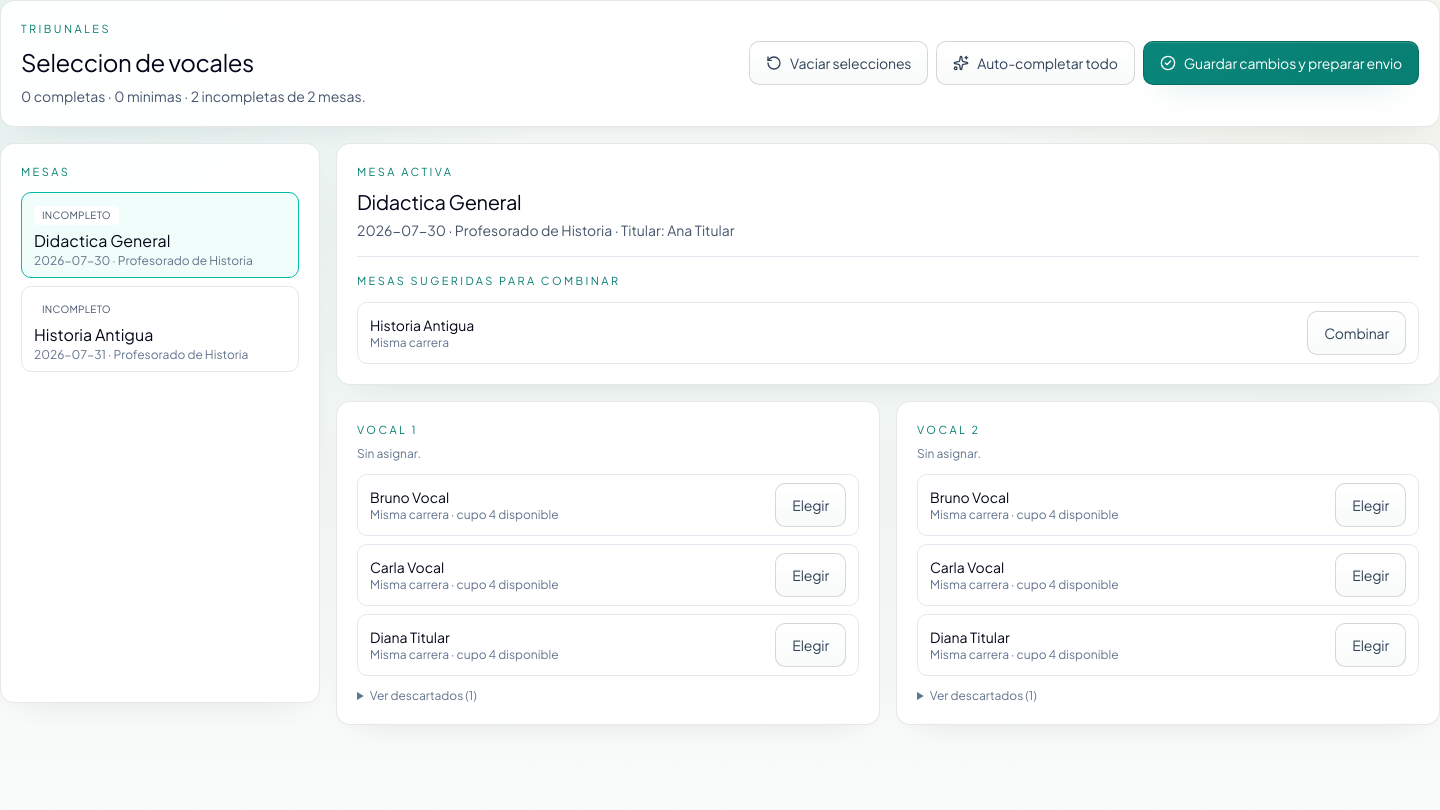
Test: InteractiveVocalSelectionPanel (UI real montada con el hook) › combinar mesas › combina la mesa activa con una mesa sugerida de la lista de sugerencias
Expected: the text "Mesas sugeridas para combinar" is shown, [357,274,620,287]
Expected: the text "Misma carrera" is shown, [370,334,449,350]
Click the button "Combinar": (1357, 332) [1307,310,1406,354]
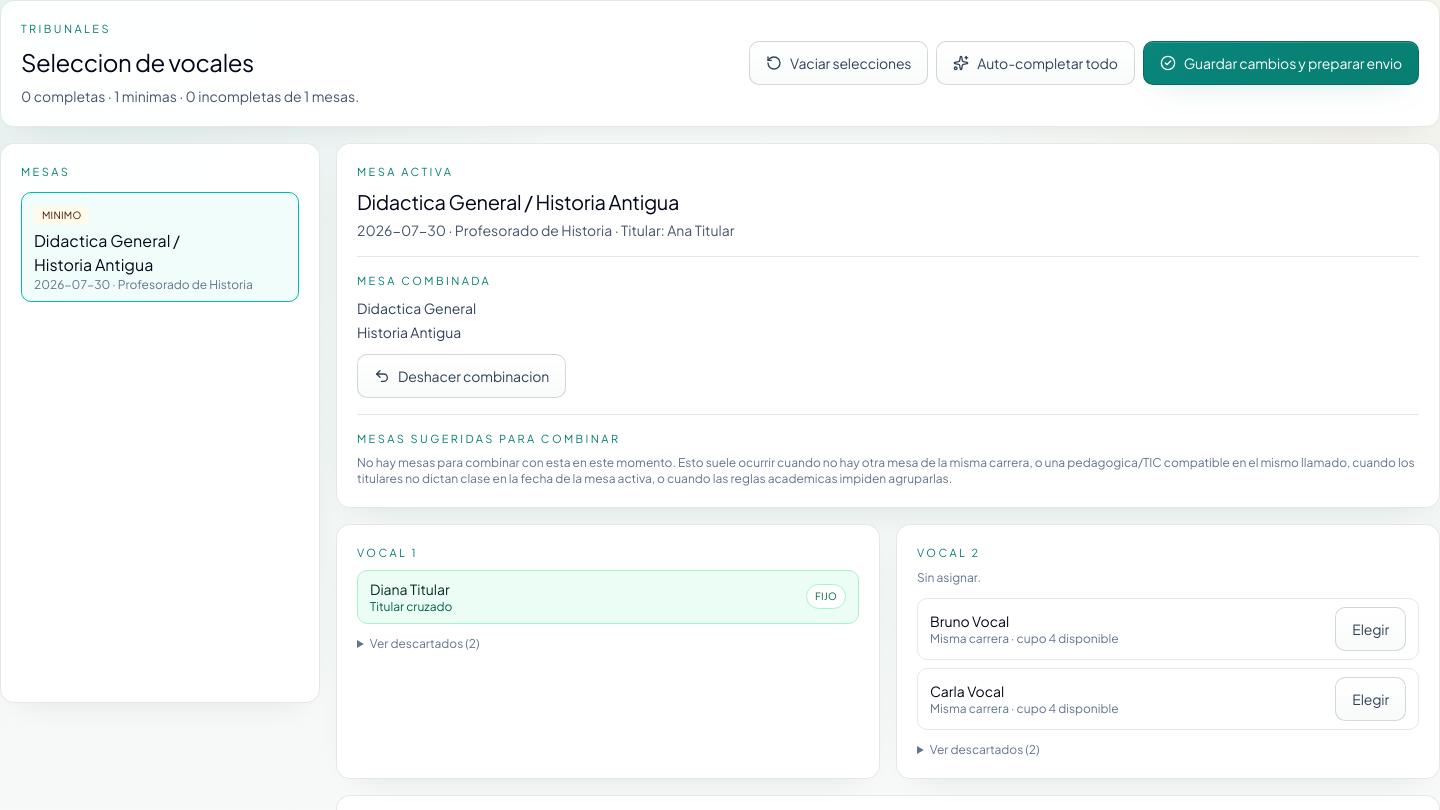
Expected: the text "Mesa combinada" is shown, [357,274,491,287]
Expected: the list item "Didactica General" is shown, [357,298,476,316]
Expected: the list item "Historia Antigua" is shown, [357,322,461,340]
